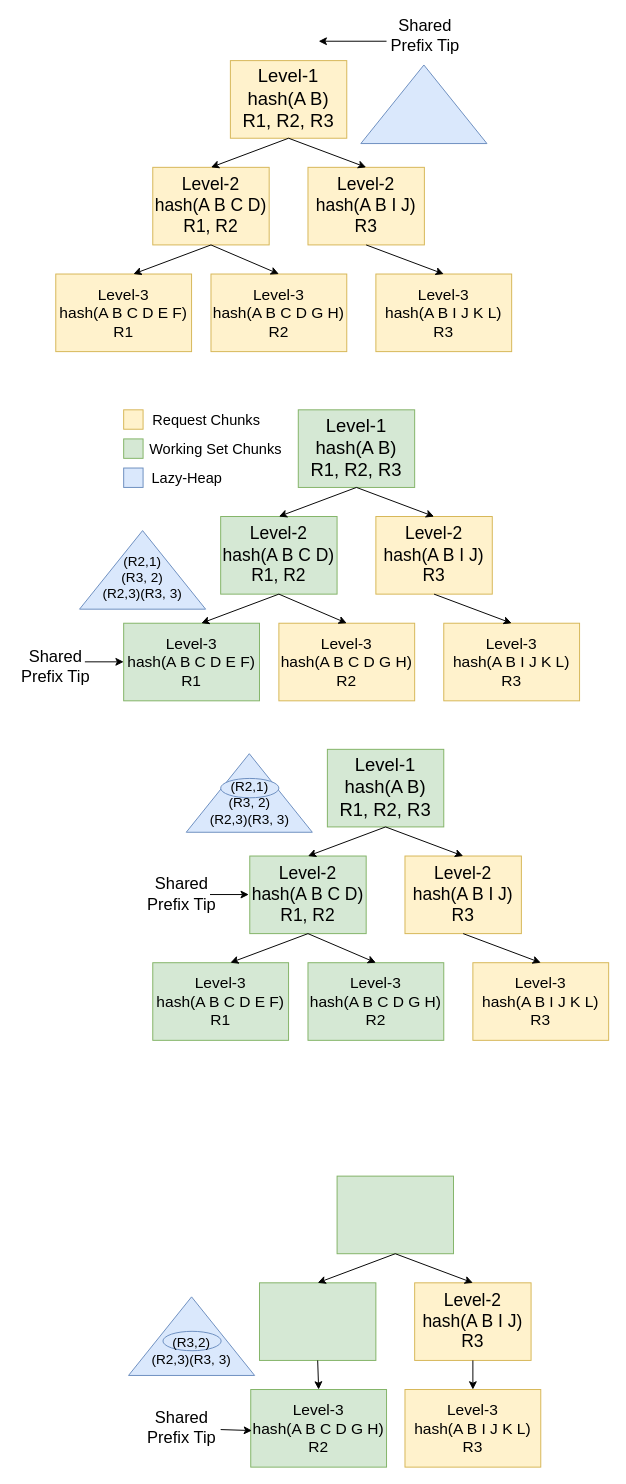
The diagram is 626 pixels wide and 1484 high, and some of its shapes have lost their labels. Each missing label, with the box of its shape:
(R1, 3) (R2, 3) (R3, 3): (360, 64, 487, 144)
Level-1 hash(A B) R2, R3: (336, 1175, 453, 1254)
Level-2 hash(A B C D) R2: (259, 1282, 376, 1360)
